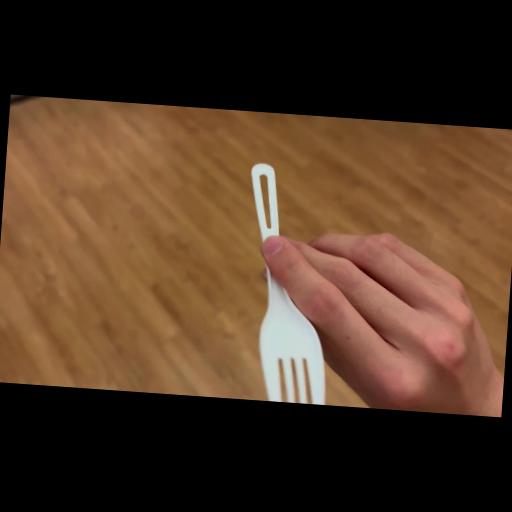utensil: (235, 160, 341, 406)
